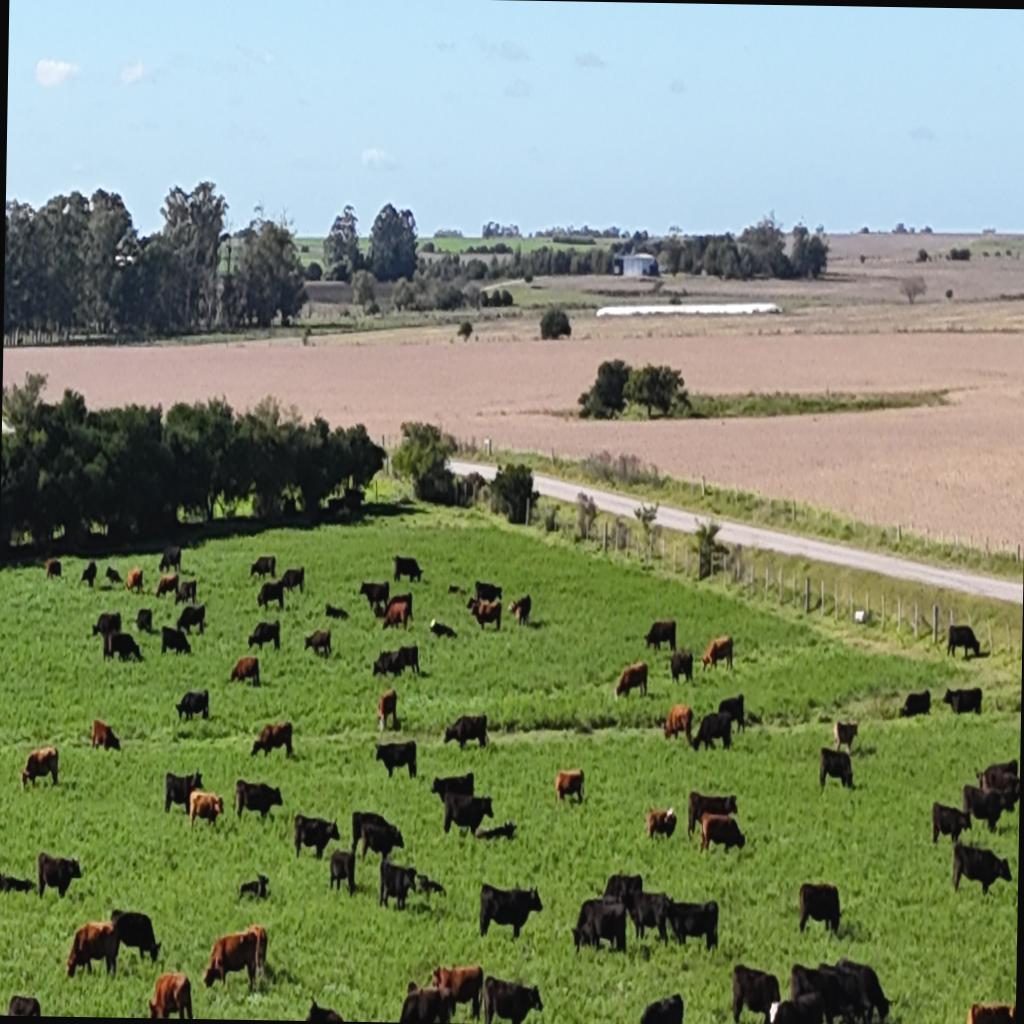cow: (200, 924, 264, 996), (478, 880, 544, 944), (829, 956, 891, 1024), (791, 960, 855, 1024), (64, 918, 121, 980), (428, 960, 484, 1022), (950, 841, 1012, 896), (730, 962, 781, 1024), (106, 908, 160, 964), (572, 898, 626, 954), (483, 974, 543, 1024), (665, 896, 720, 950), (350, 810, 404, 862), (629, 888, 674, 944), (442, 792, 494, 839), (292, 812, 340, 860), (36, 850, 82, 900), (962, 785, 1012, 831), (798, 882, 840, 936), (378, 857, 418, 913), (397, 982, 453, 1022), (148, 970, 193, 1018), (234, 778, 284, 820), (930, 801, 972, 847), (700, 813, 746, 854), (765, 992, 822, 1024), (162, 770, 202, 814), (442, 712, 488, 750), (374, 642, 420, 680), (691, 710, 732, 752), (374, 740, 416, 780), (429, 770, 474, 807), (637, 990, 685, 1024), (818, 747, 854, 792), (250, 719, 292, 757), (599, 870, 641, 908), (22, 744, 58, 788), (188, 789, 224, 830), (328, 848, 357, 896), (614, 660, 648, 700), (662, 702, 694, 744), (978, 757, 1020, 788), (700, 634, 733, 673), (104, 631, 144, 663), (716, 692, 745, 736), (466, 597, 501, 632), (174, 688, 208, 724), (947, 624, 981, 659), (643, 618, 676, 654), (89, 717, 121, 754), (645, 805, 676, 843), (246, 619, 280, 653), (380, 597, 412, 633), (966, 1000, 1014, 1024), (944, 686, 982, 716), (554, 768, 584, 806), (358, 579, 390, 614), (228, 654, 260, 686), (176, 603, 206, 637), (570, 918, 598, 954), (160, 624, 191, 656), (668, 648, 694, 686), (376, 688, 398, 732), (238, 872, 270, 902), (898, 688, 930, 718), (256, 580, 286, 612), (304, 996, 344, 1020), (475, 819, 517, 841), (832, 719, 858, 754), (0, 871, 36, 896), (392, 554, 422, 584), (414, 872, 445, 900), (302, 628, 330, 658), (91, 610, 121, 638), (508, 593, 532, 626), (278, 566, 306, 594), (6, 993, 40, 1016), (249, 554, 276, 581), (473, 580, 502, 604), (158, 544, 182, 573), (233, 778, 250, 818), (154, 571, 178, 598), (176, 578, 198, 605), (342, 486, 364, 512), (428, 619, 456, 639), (322, 494, 345, 518), (125, 566, 144, 593), (136, 609, 154, 635), (80, 560, 96, 588), (324, 603, 348, 620), (44, 558, 62, 580), (104, 565, 121, 585), (447, 584, 465, 594)
